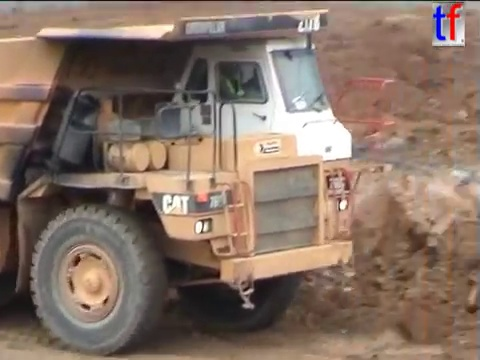truck: (1, 4, 397, 360)
